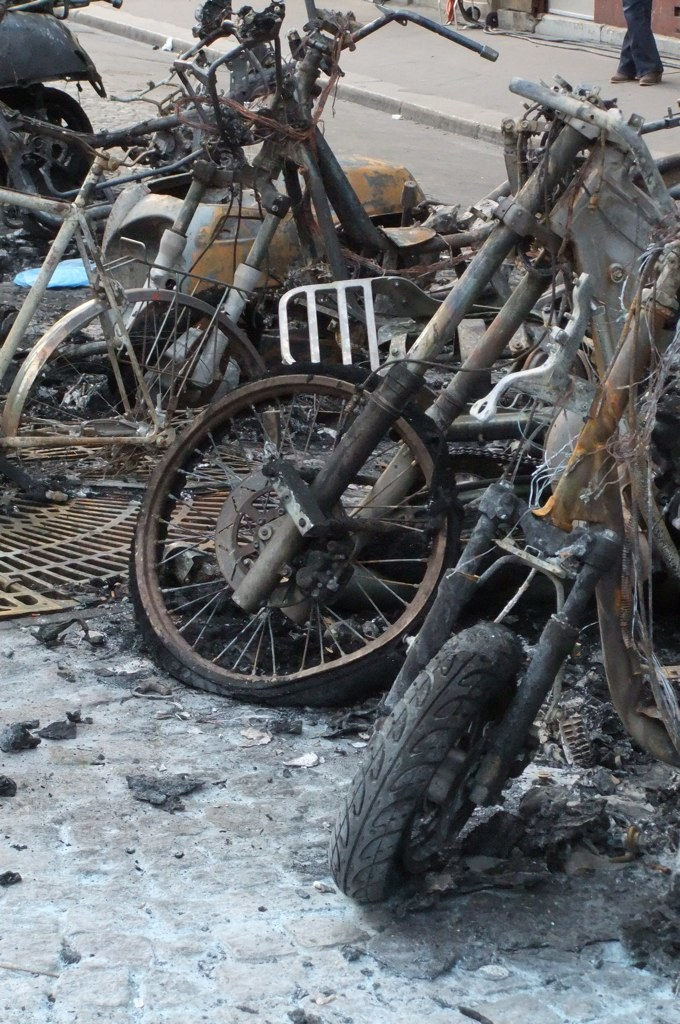bicycle: (69, 0, 635, 794)
